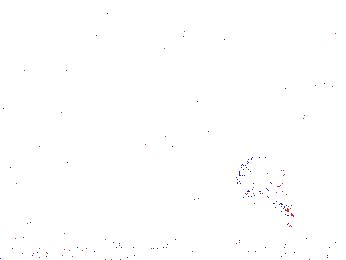flame jellyfish: (233, 154, 300, 220), (281, 63, 331, 133), (149, 167, 210, 222)
